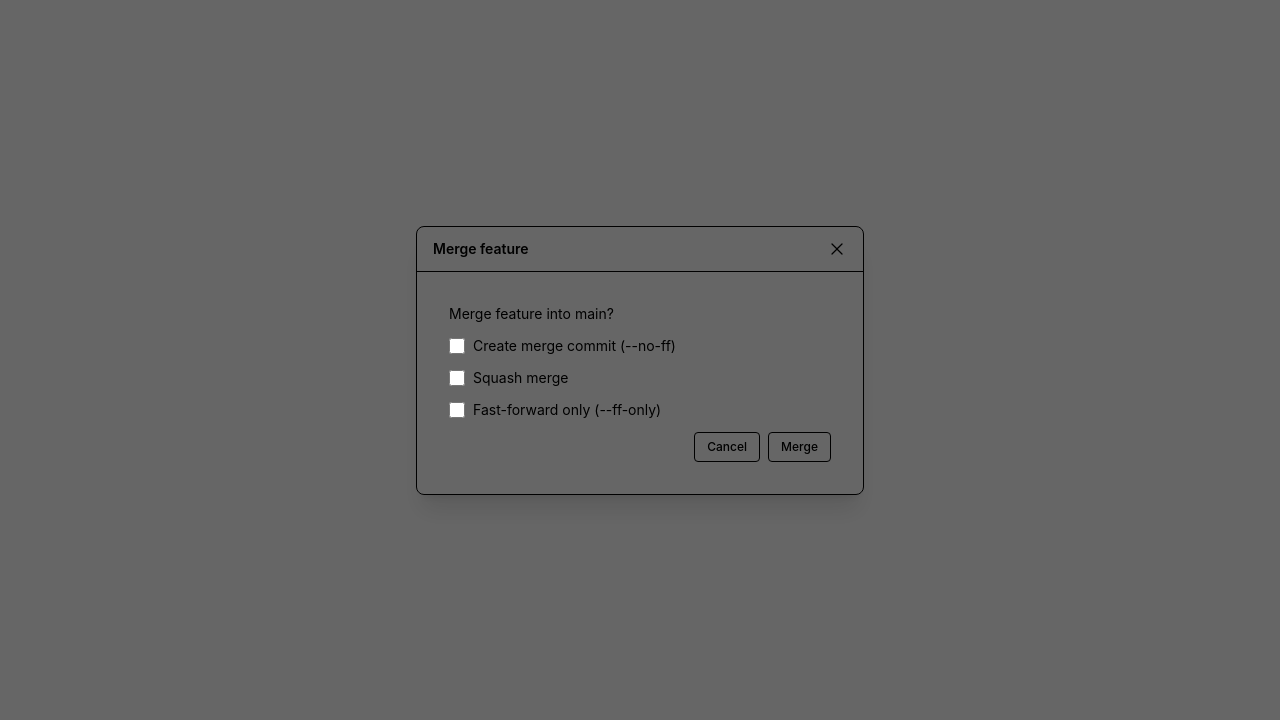
Test: MergeBranchDialog › shows inline error when merge fails
What coordinates should you click on to do the following:
click the button "Merge"
I would click on:
 (800, 446)
Its box is [768,432,831,462].
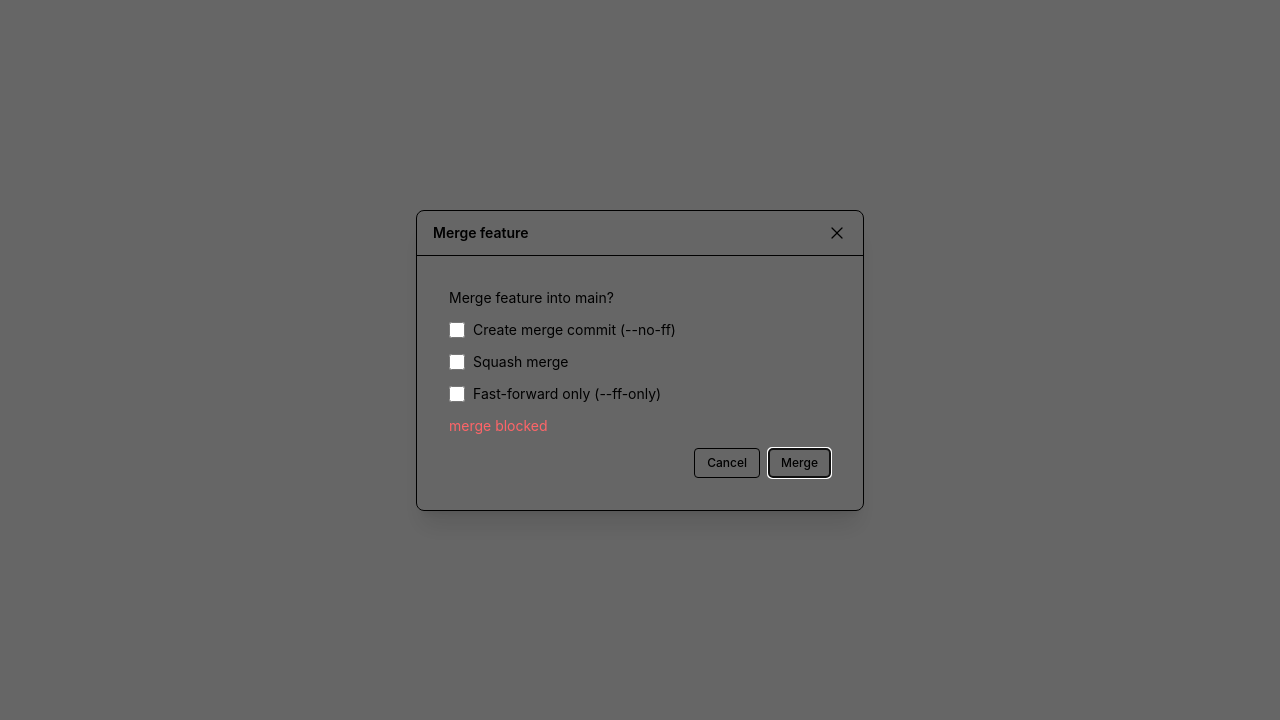
Result: the text "merge blocked" is shown at [449,416,548,434]
